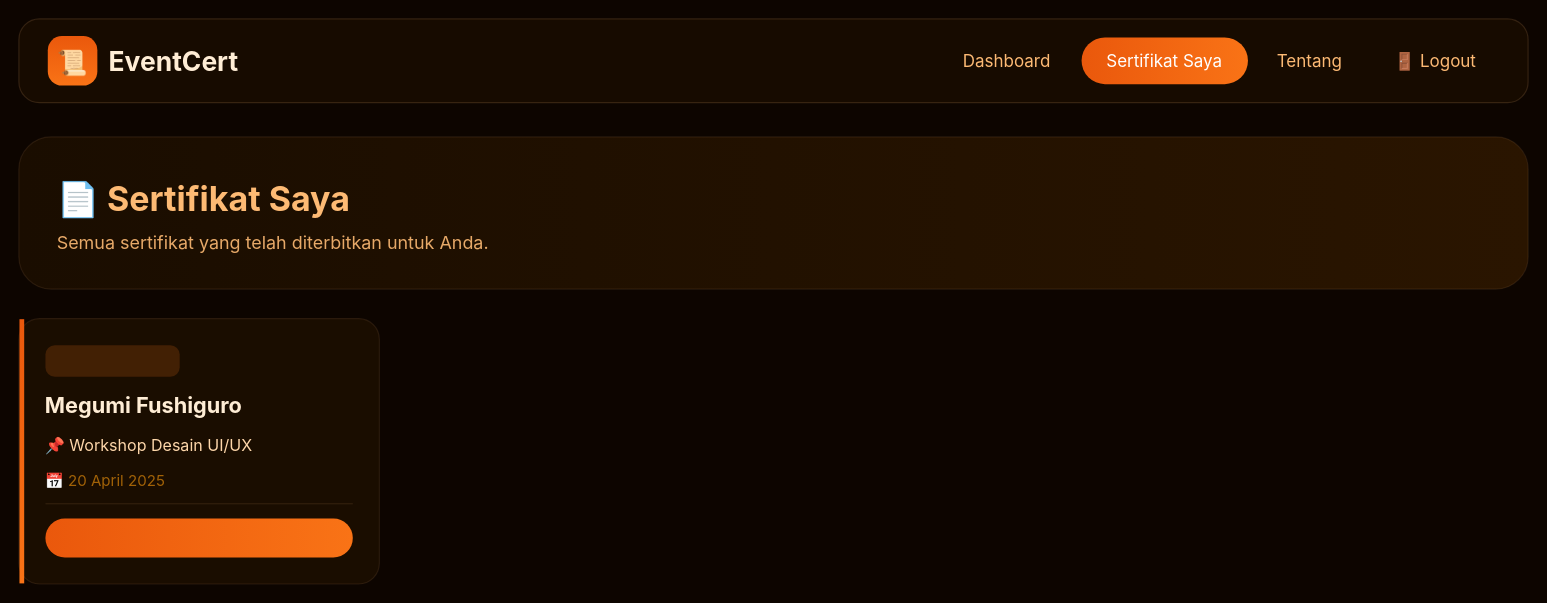
This 1547x603 diagram has some shape labels left out. The centre of each missing label's shape, as x and y in pixels:
EC-2025-0002: (x=112, y=360)
👁️ Lihat Sertifikat: (x=198, y=537)
